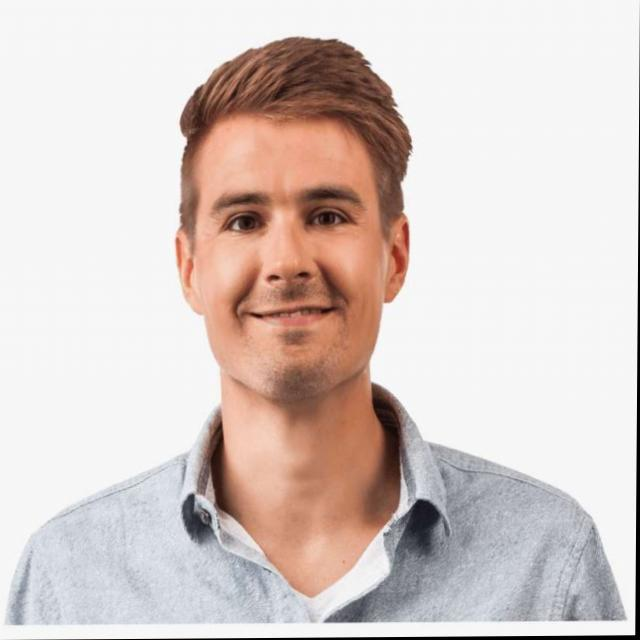Nonhelmet: (163, 34, 420, 411)
